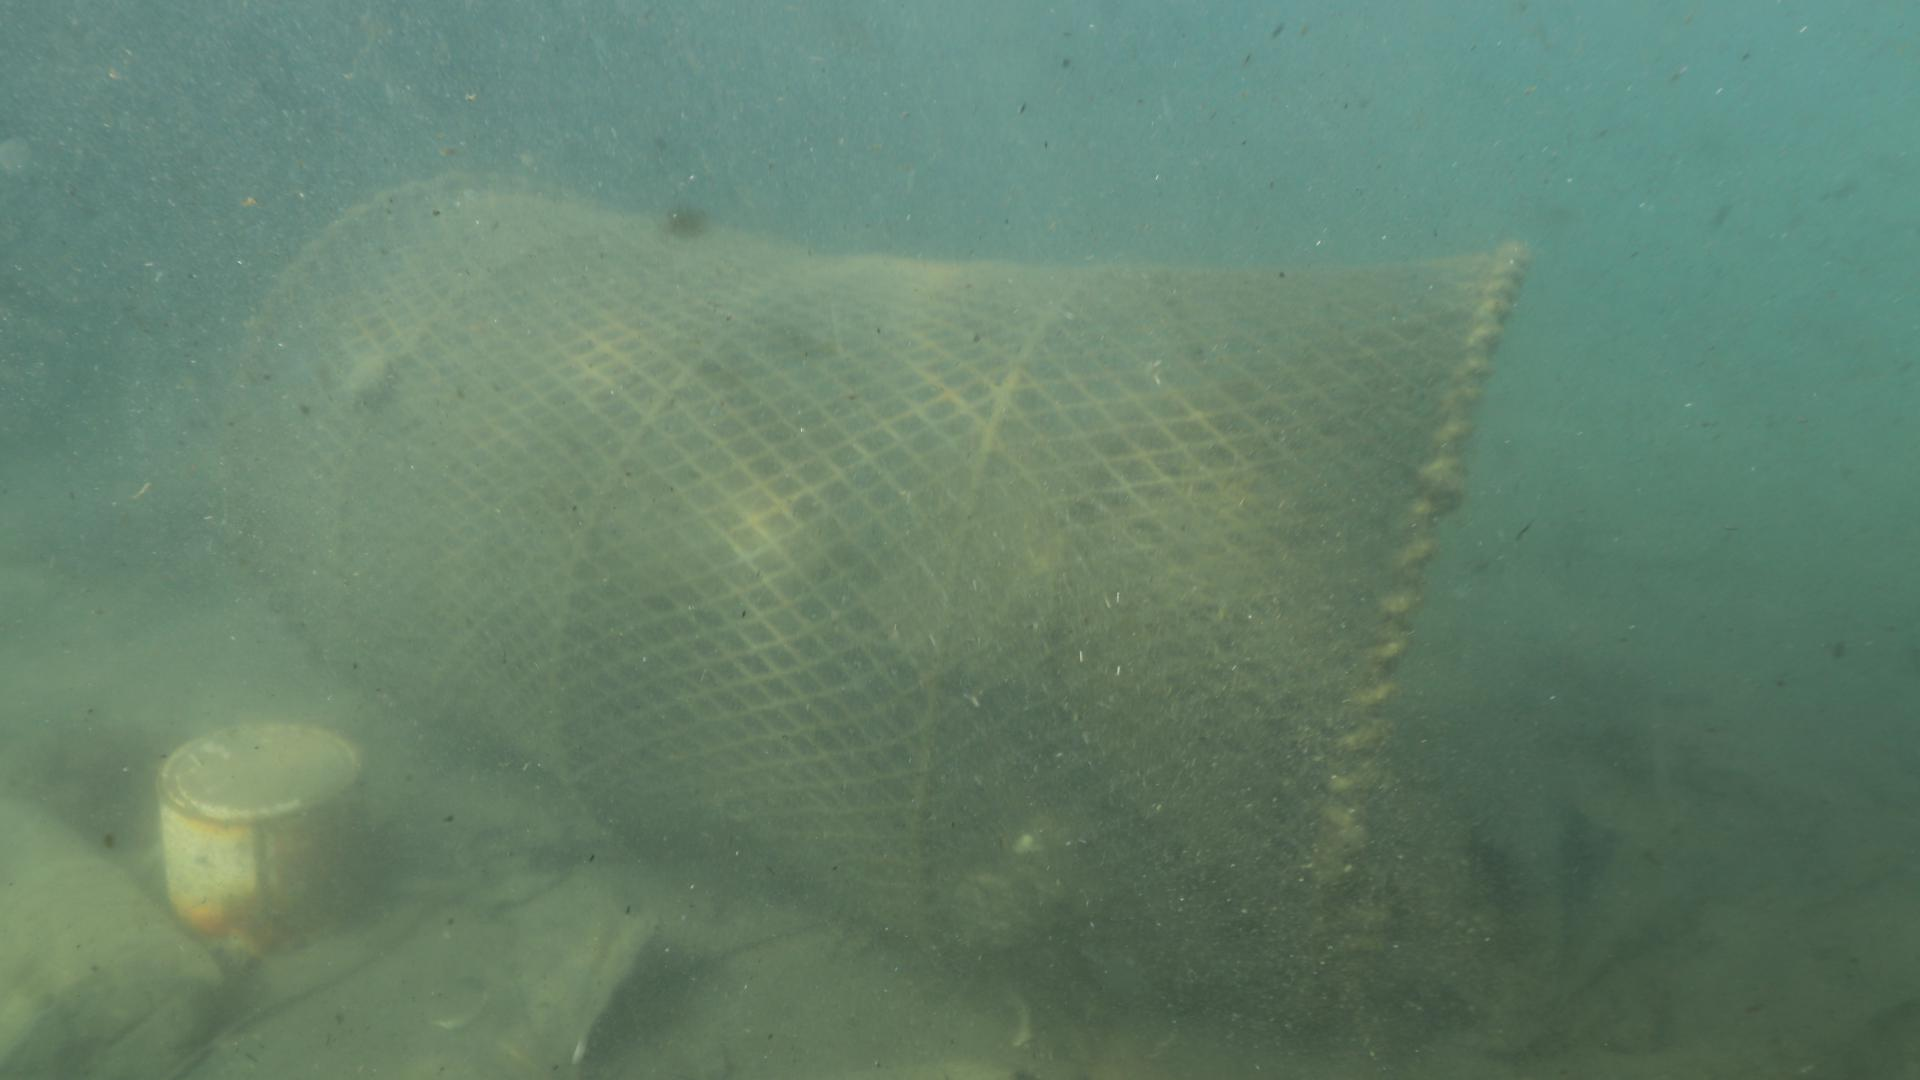spring fish trap: (204, 164, 1536, 1029)
